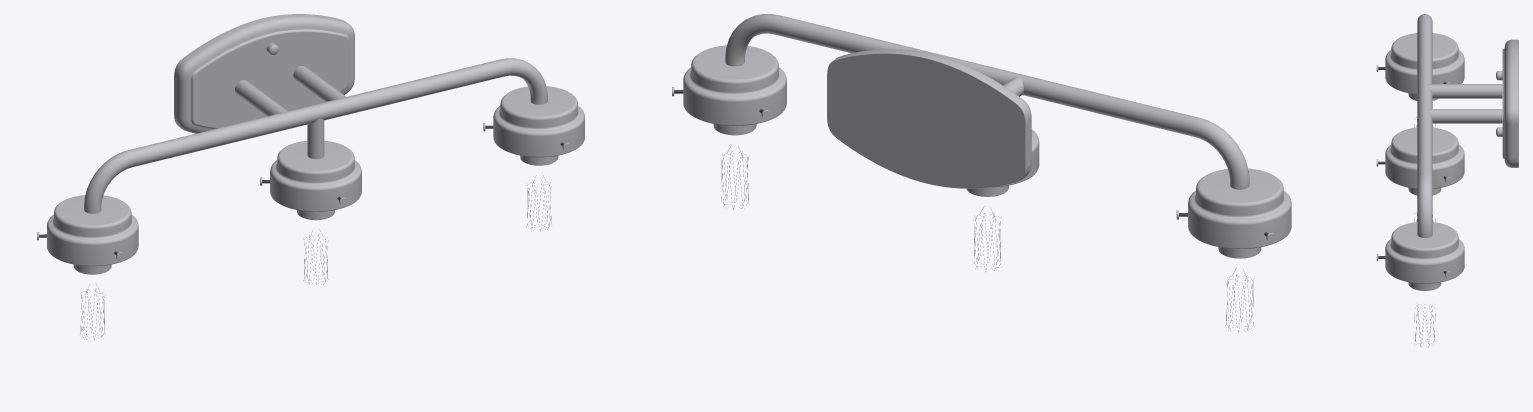
The model's file is abo-B07B4Z9C39.glb.
3 views of the same model, side by side, from view 1: azimuth 30°, elevation 25°; view 2: azimuth 150°, elevation 25°; view 3: azimuth 270°, elevation 25° (orthographic). The views are drawn at different scales.
Size of the model in its own units: 0.638 by 0.292 by 0.177.
Materials: 1 (1 with a texture image).
